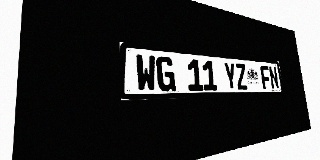1: (186, 59, 204, 91), (201, 60, 217, 90)
F: (260, 65, 271, 89)
G: (156, 56, 176, 91)
N: (268, 66, 279, 89)
W: (135, 54, 157, 92)
Y: (223, 62, 237, 90)
Z: (235, 63, 248, 90)
